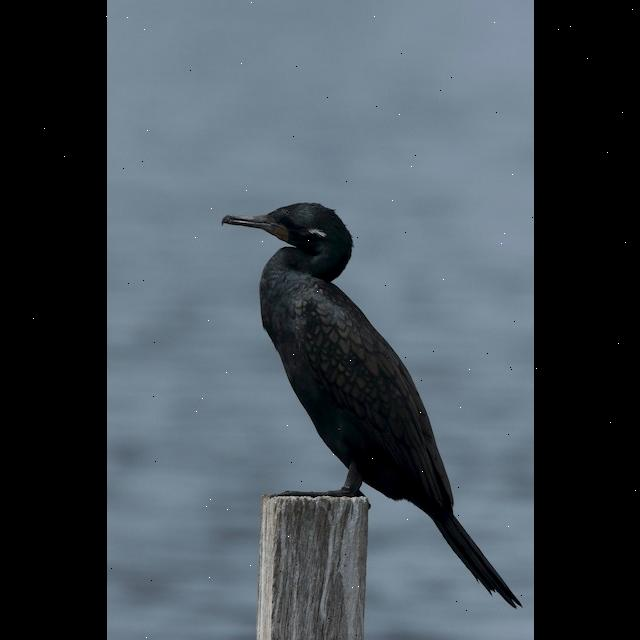cormorant: (213, 194, 515, 606)
